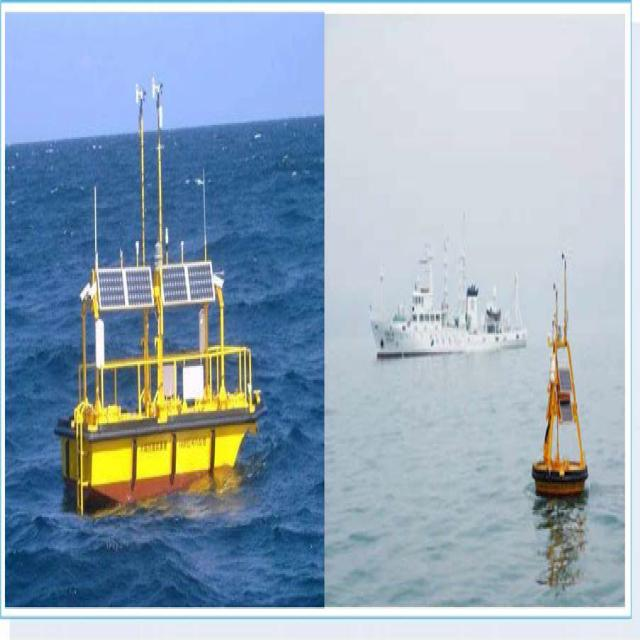marque: (53, 67, 257, 518), (542, 246, 597, 537)
